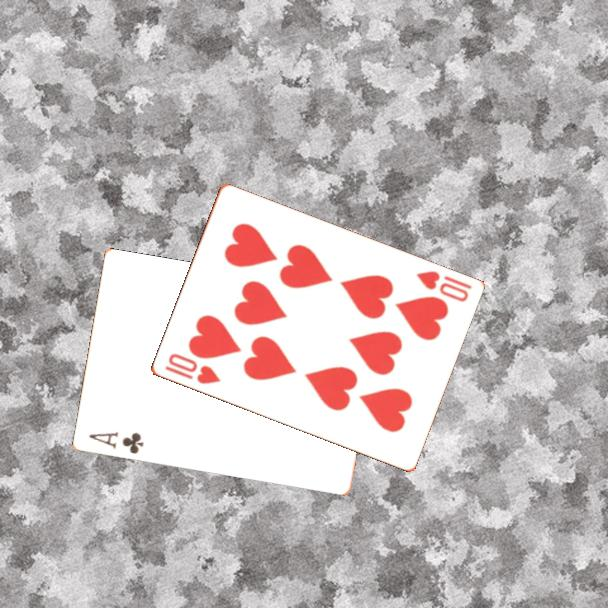c01: (85, 428, 146, 457)
h10: (413, 267, 475, 305), (161, 350, 223, 387)
